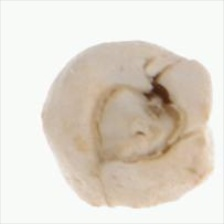L3: (92, 81, 181, 162)
L4: (40, 41, 213, 207)
